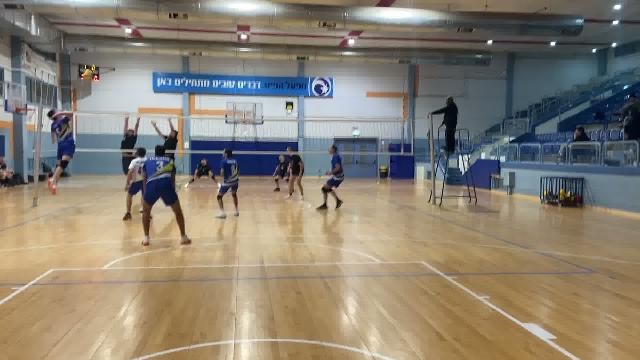ball: (81, 68, 95, 82)
